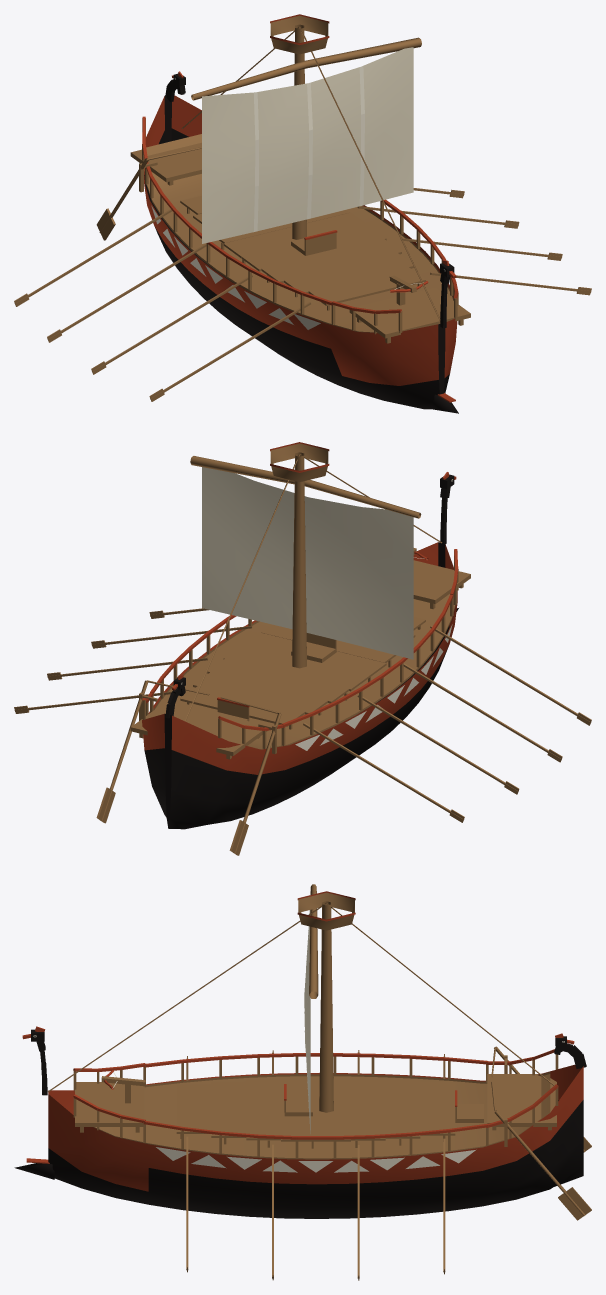
Rendered from ship_boarder_blockout_LOD1.obj.
3 renders of one model, top to bottom at view 1: azimuth 30°, elevation 25°; view 2: azimuth 150°, elevation 25°; view 3: azimuth 270°, elevation 25°, orthographic. The views are drawn at different scales.
Visible parts, largest first — view 1: ship_boarder_blockout_LOD1; view 2: ship_boarder_blockout_LOD1; view 3: ship_boarder_blockout_LOD1.
Part boxes in pixels (bbox=[...]): ship_boarder_blockout_LOD1: bbox=[14, 14, 591, 413]; ship_boarder_blockout_LOD1: bbox=[14, 442, 591, 855]; ship_boarder_blockout_LOD1: bbox=[14, 884, 591, 1280].
Size of the model in its own units: 24.36 by 15.29 by 26.38.
